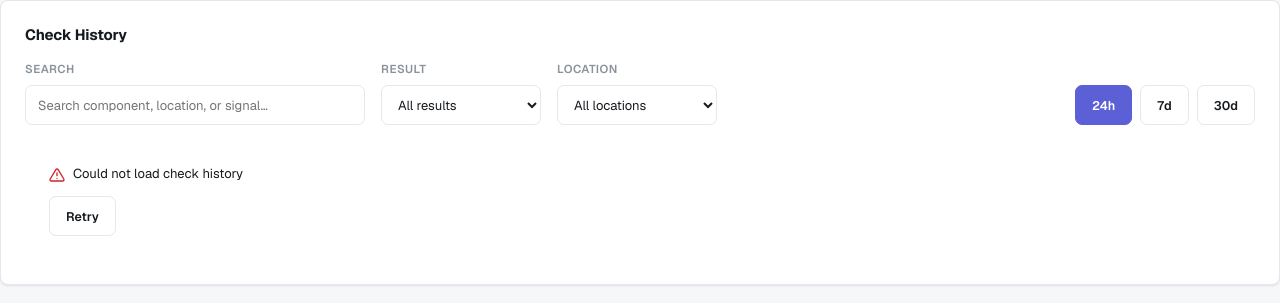
CheckHistoryPage › shows the shared ErrorState on a history-fetch failure, then recovers via retry (AC4)
Expected: the message reads "Could not load check history", [73,165,243,182]
Click the button "Retry" at {"x": 82, "y": 216}, box [49,196,116,236]
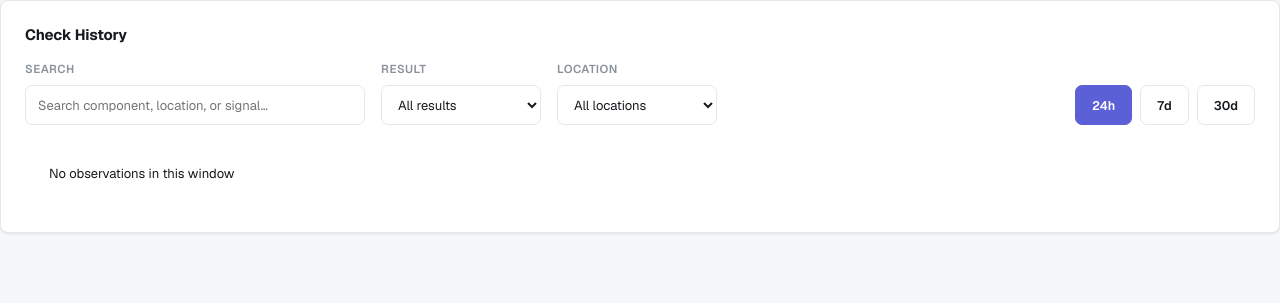
Result: the text "No observations in this window" is shown at [49,165,234,184]
